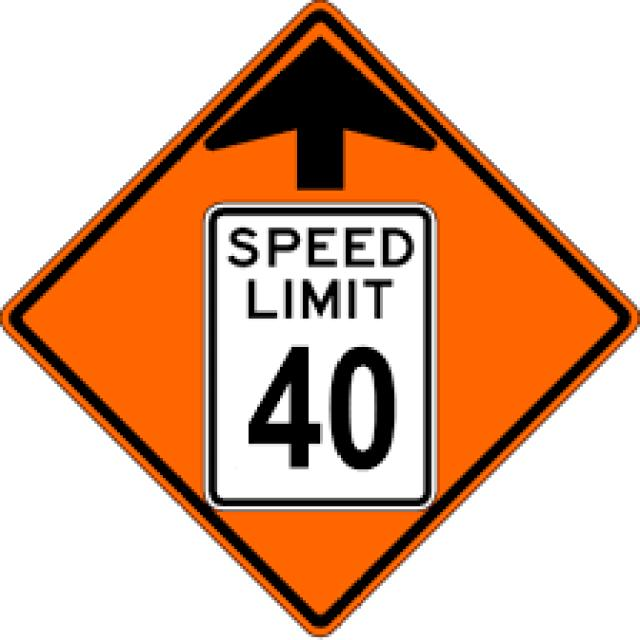speedLimit40: (210, 206, 432, 499)
